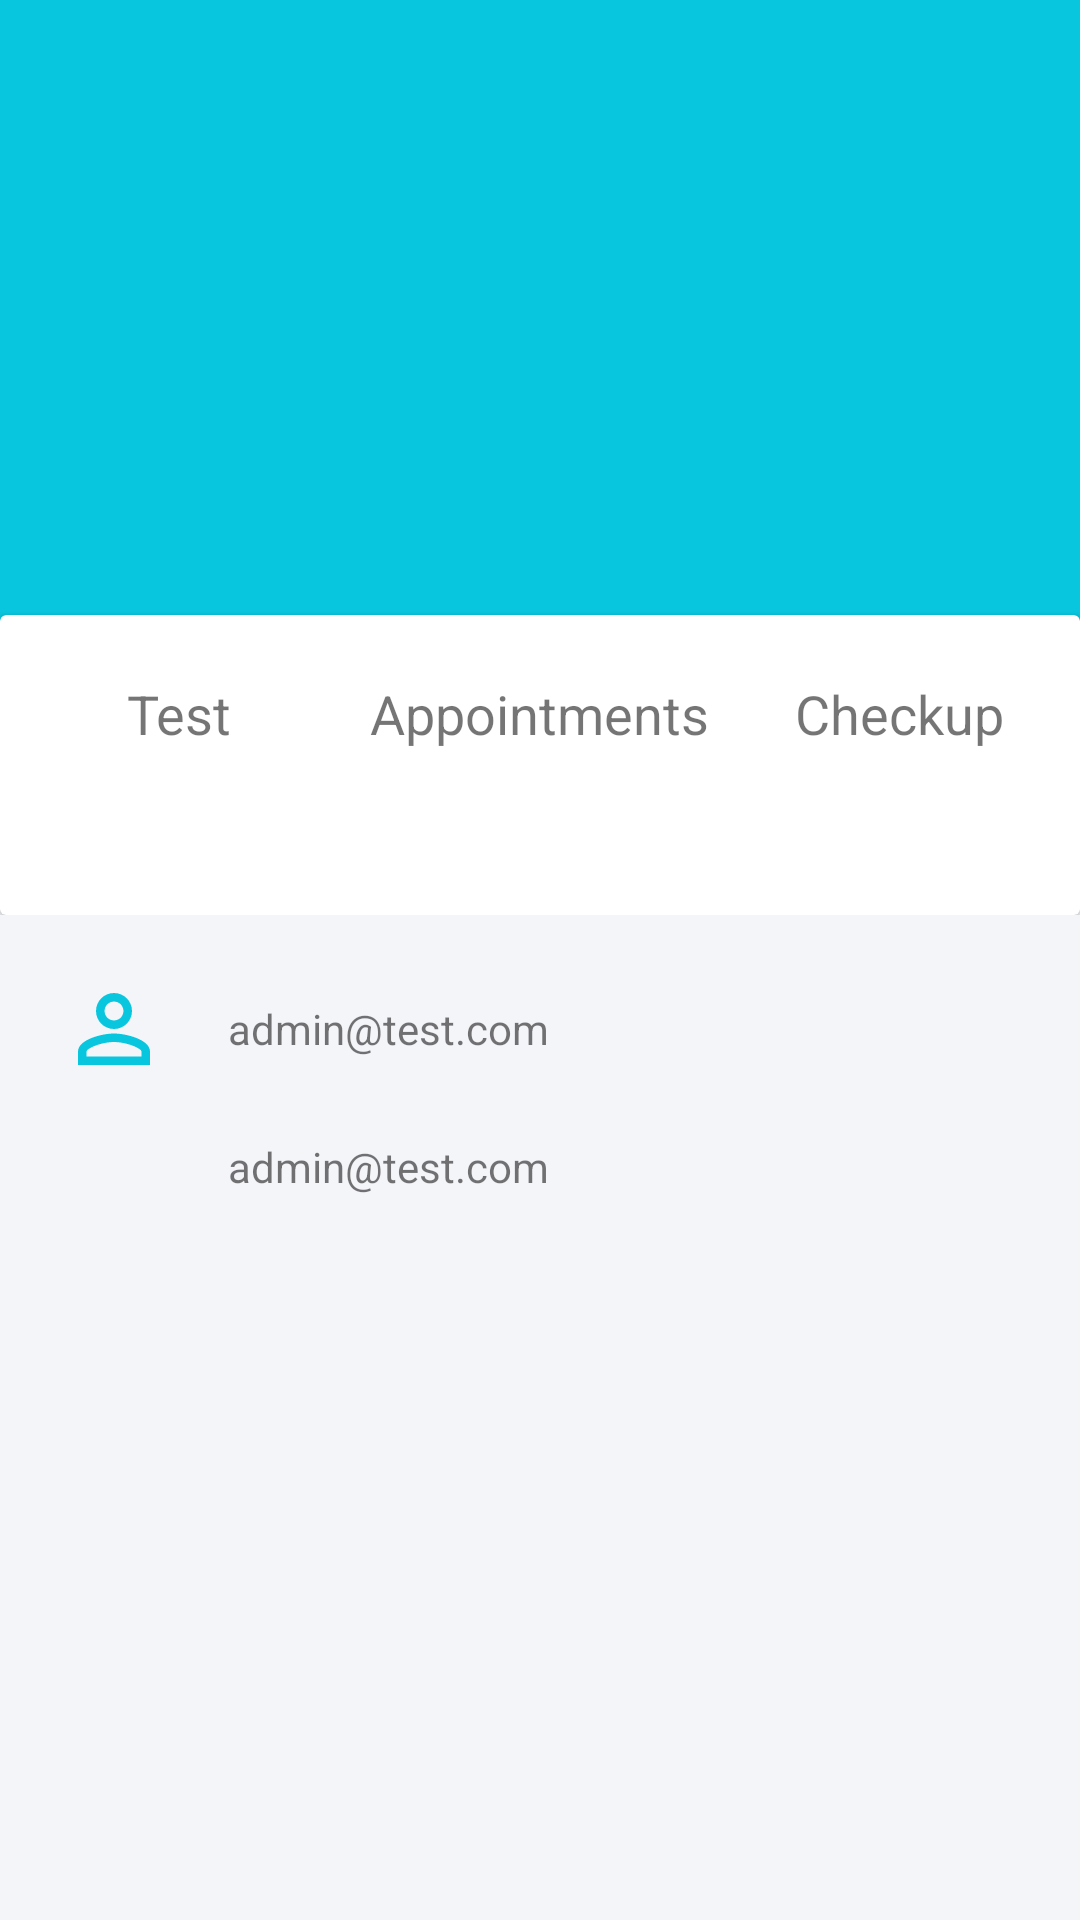

Screen size 1080px x 1920px. Icon name, then its center in pixels as (x=x, y=y):
person: (x=114, y=1029)
